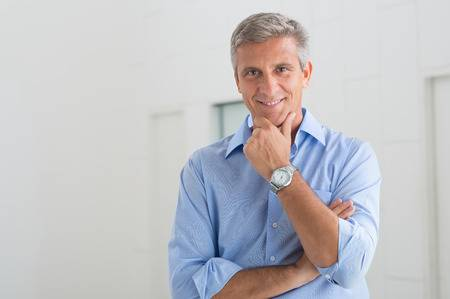F_shirt: (170, 110, 381, 299)
